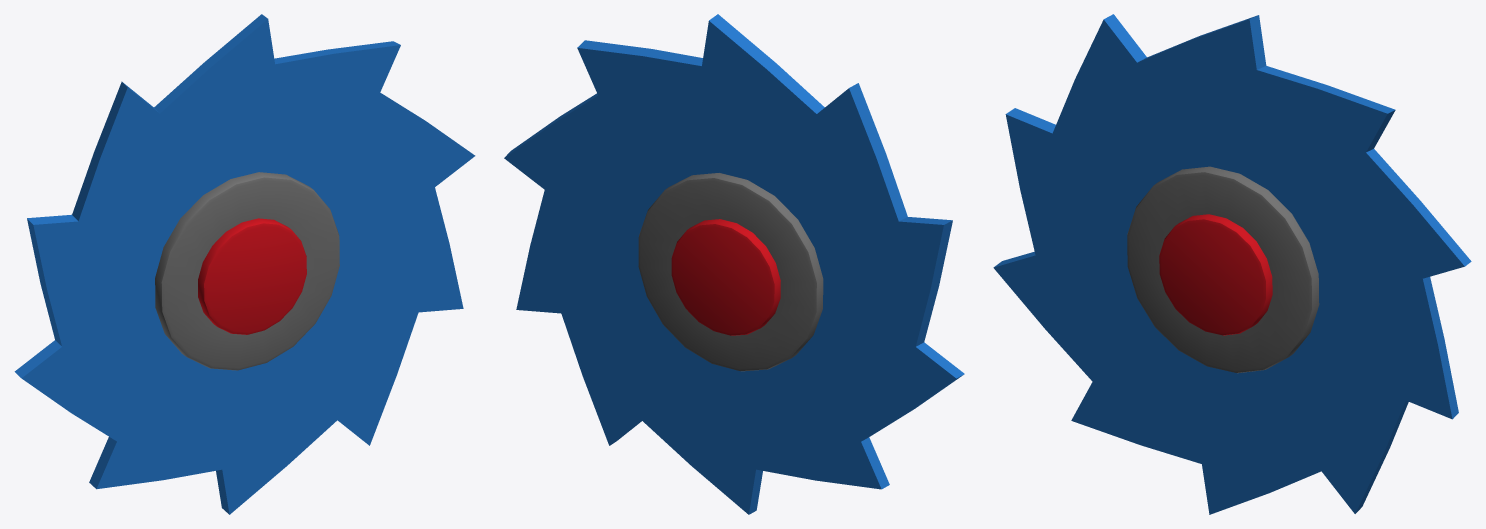
Rendered from OBS_Main_Saw.fbx.
The picture shows the model from 3 angles, left to right: view 1: azimuth 30°, elevation 25°; view 2: azimuth 150°, elevation 25°; view 3: azimuth 330°, elevation 25°; orthographic projection. The views are drawn at different scales.
Parts seen in each view (by area): view 1: OBS_Main_Saw; view 2: OBS_Main_Saw; view 3: OBS_Main_Saw.
Boxes of the visible parts, x1,y1,x2,y2 form: OBS_Main_Saw: [14, 14, 475, 514]; OBS_Main_Saw: [504, 14, 964, 514]; OBS_Main_Saw: [993, 14, 1471, 514].
Size of the model in its own units: 1392 by 1426 by 166.
